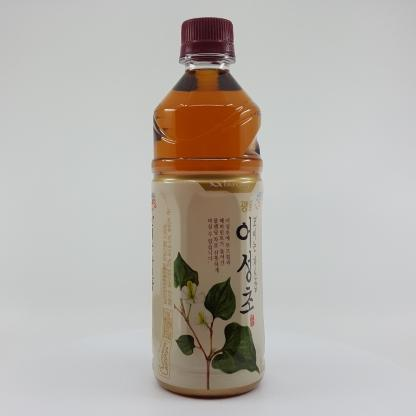--------500ml: (151, 17, 266, 396)
